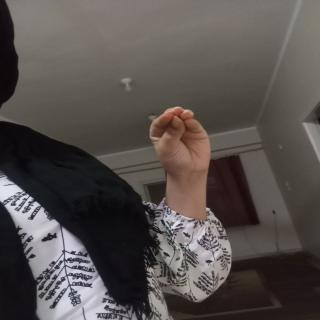HA: (140, 97, 222, 190)
